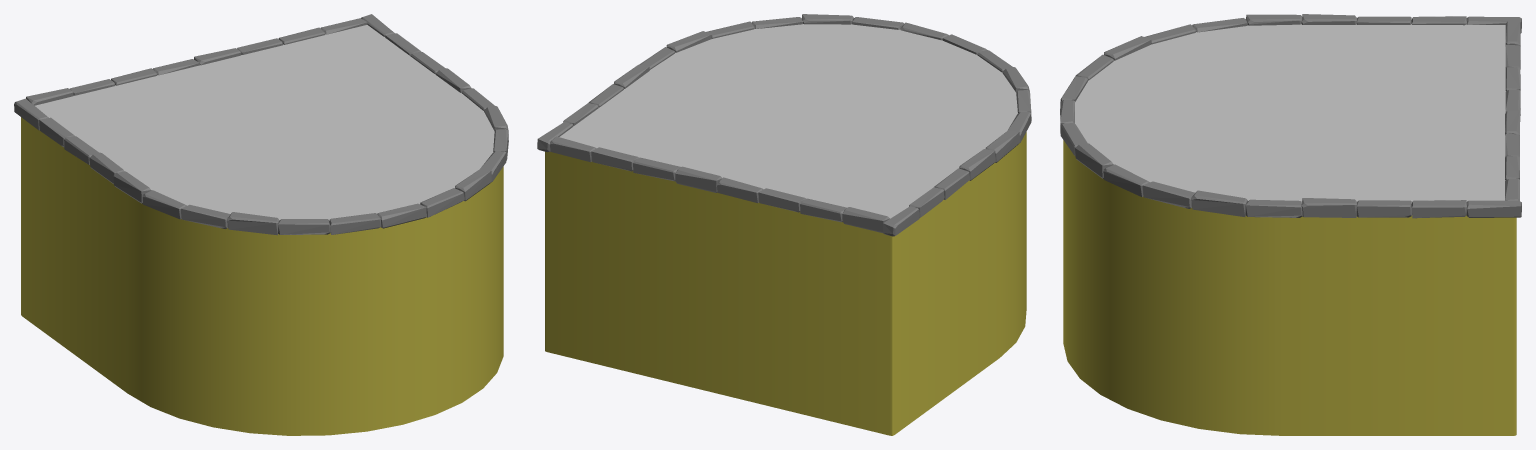
File: SM_platform_rounded.fbx
The picture shows the model from 3 angles, left to right: view 1: azimuth 30°, elevation 25°; view 2: azimuth 150°, elevation 25°; view 3: azimuth 270°, elevation 25°; orthographic projection. The views are drawn at different scales.
Parts seen in each view (by area): view 1: Cylinder073; view 2: Cylinder073; view 3: Cylinder073.
Part boxes in pixels (x1=…): Cylinder073: x1=14, y1=14, x2=508, y2=435; Cylinder073: x1=537, y1=14, x2=1031, y2=435; Cylinder073: x1=1060, y1=14, x2=1521, y2=435.
Size of the model in its own units: 264 by 151 by 269.
